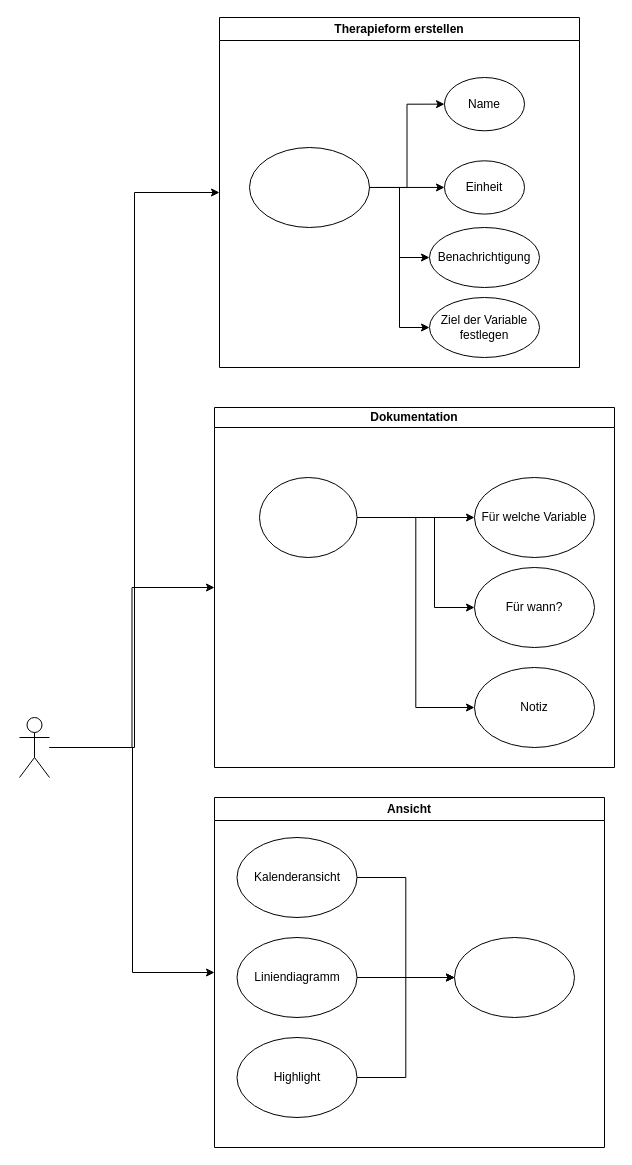
Some shapes in this 632 by 1165 pixel diagram are drawn without their labels. Each missing label, with the centre of its shape:
Nutzer: [34,747]
personalisierungen (Angezeigte Variable): [514,977]
Variablen erstellen: [309,187]
Wert Dokumentieren: [307,517]
